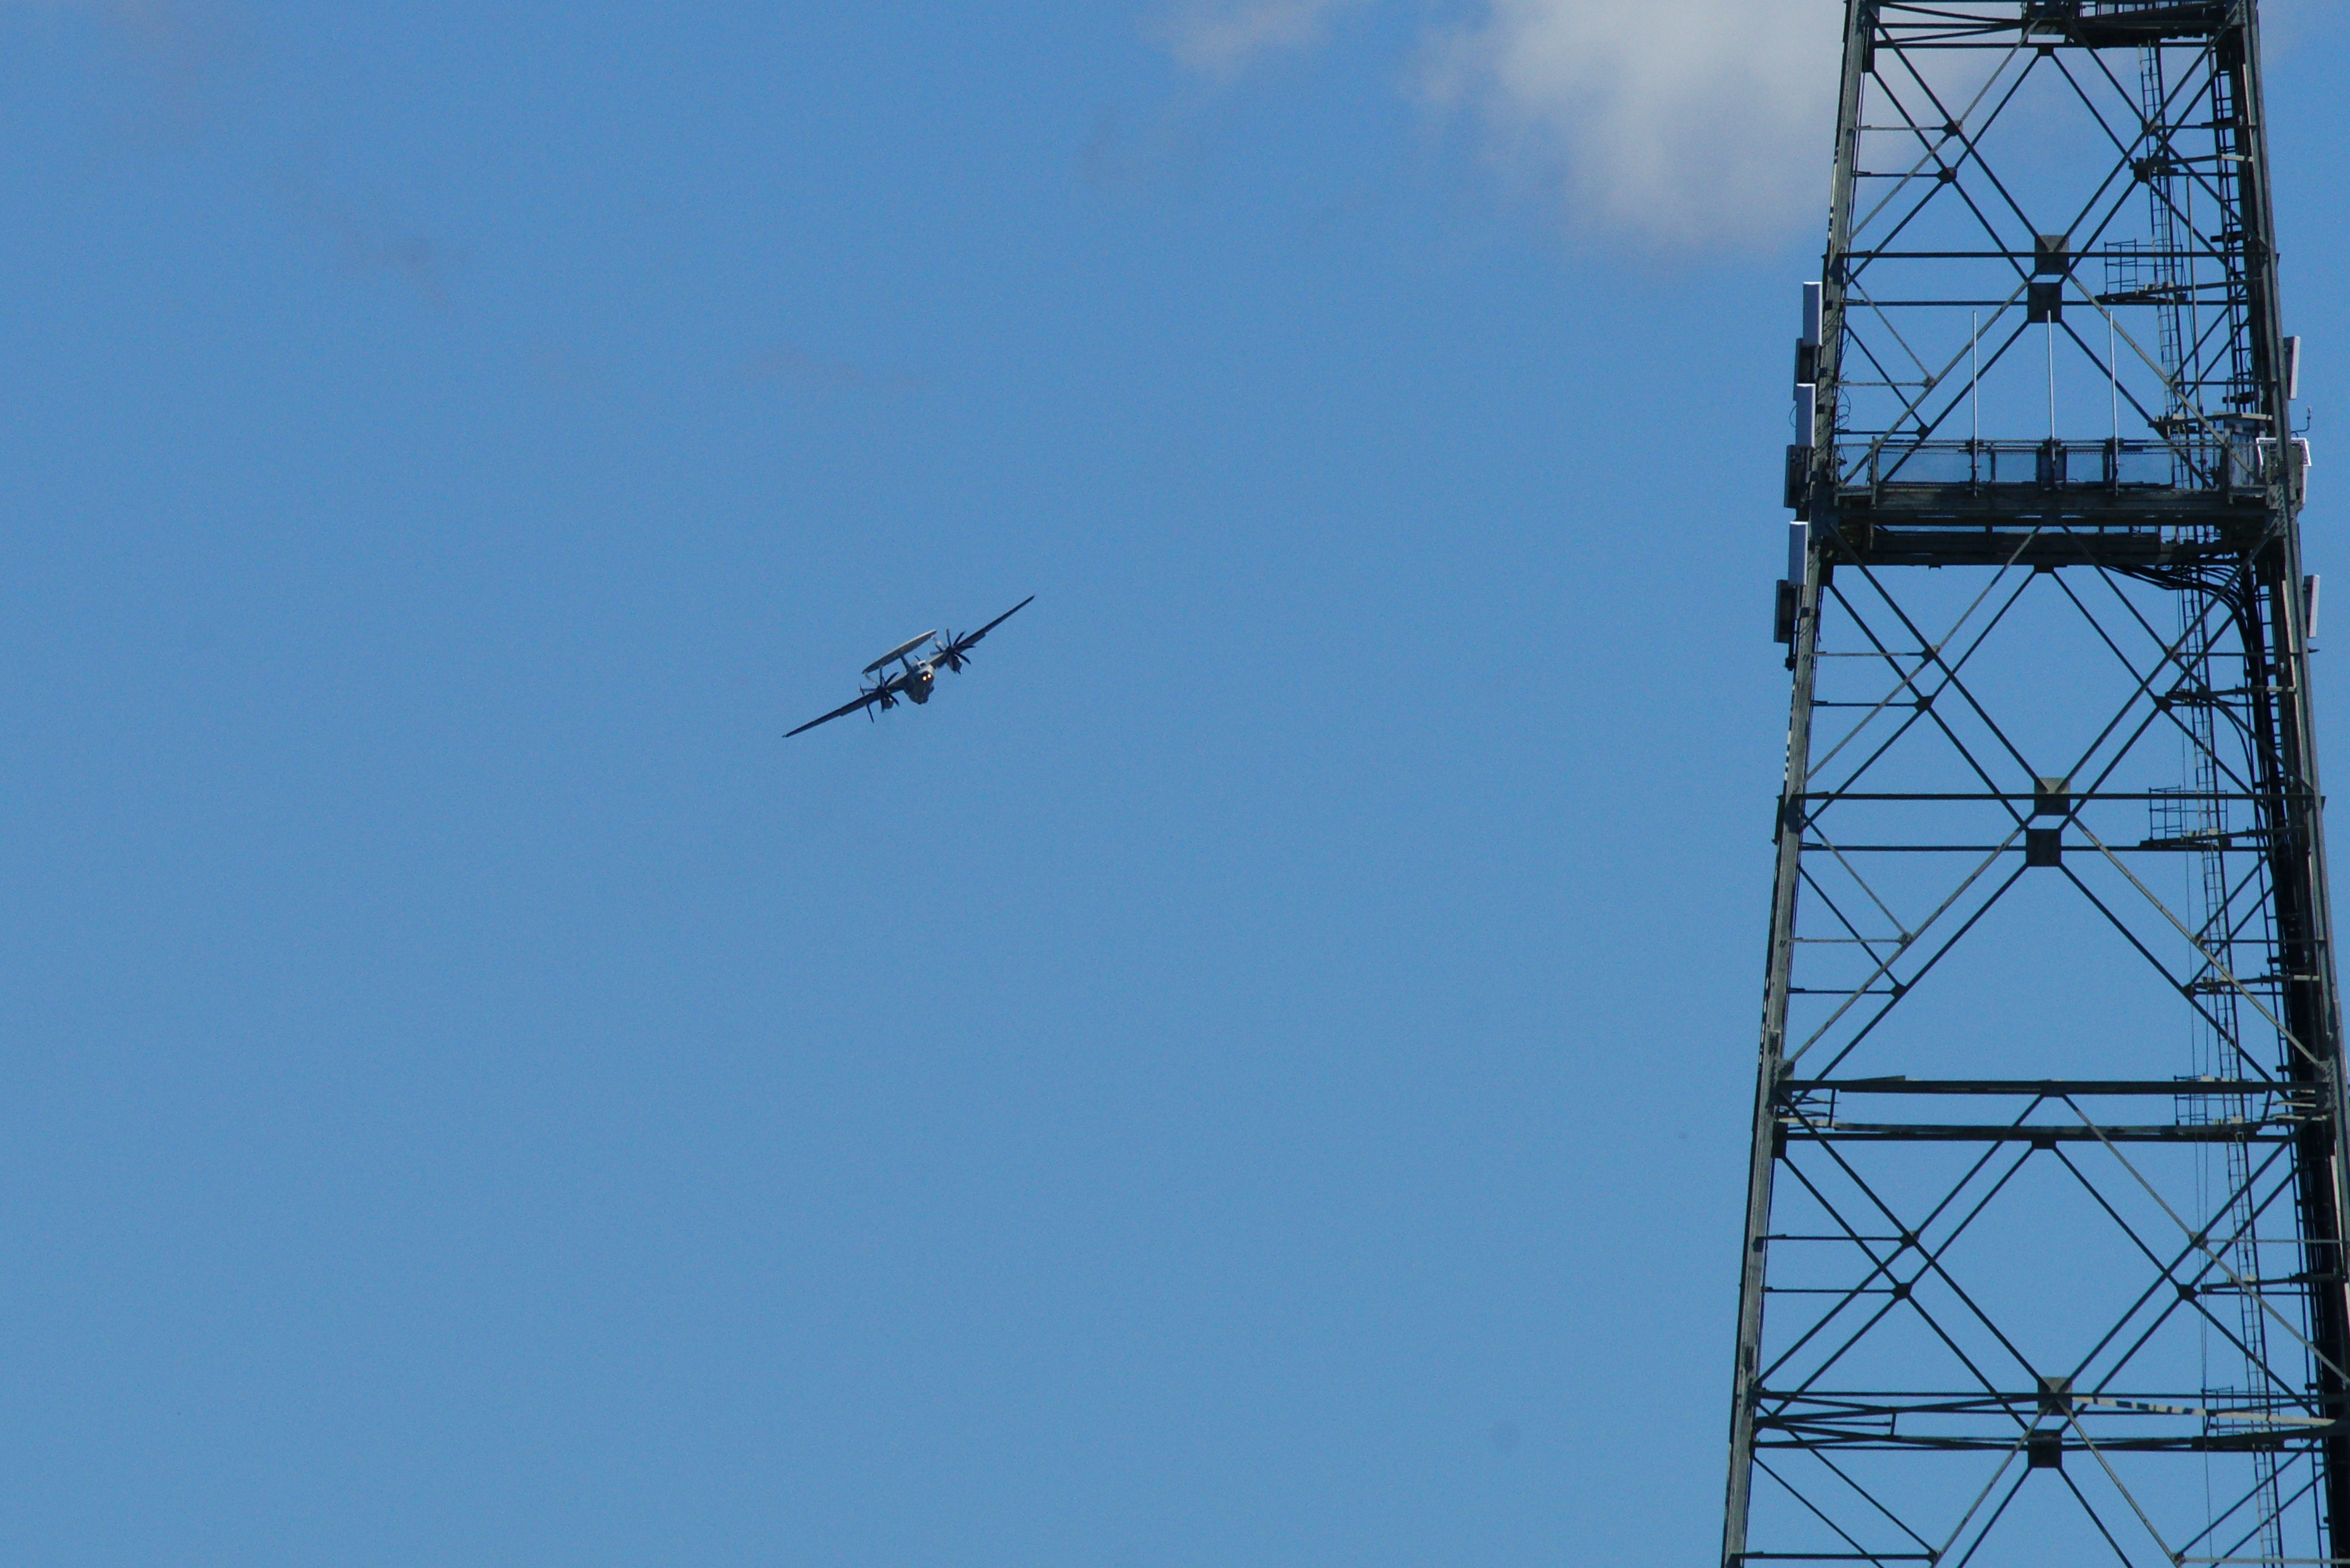E2: (780, 593, 1036, 738)
